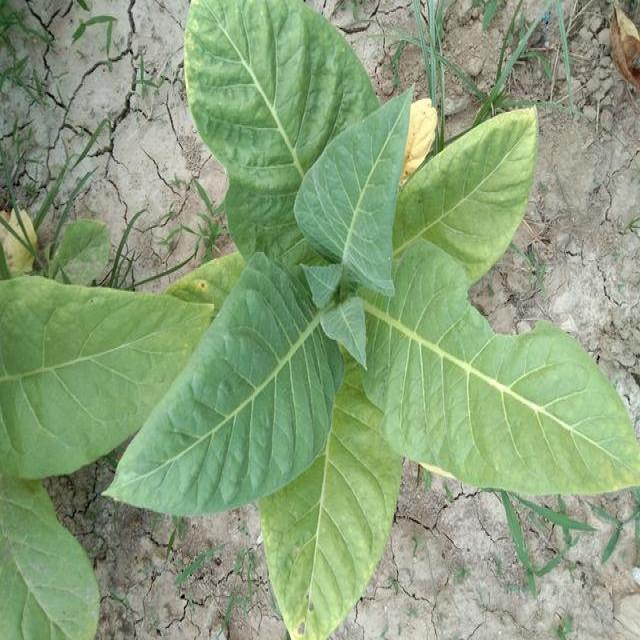crop: (135, 2, 635, 630), (12, 265, 171, 473), (2, 499, 95, 640)
